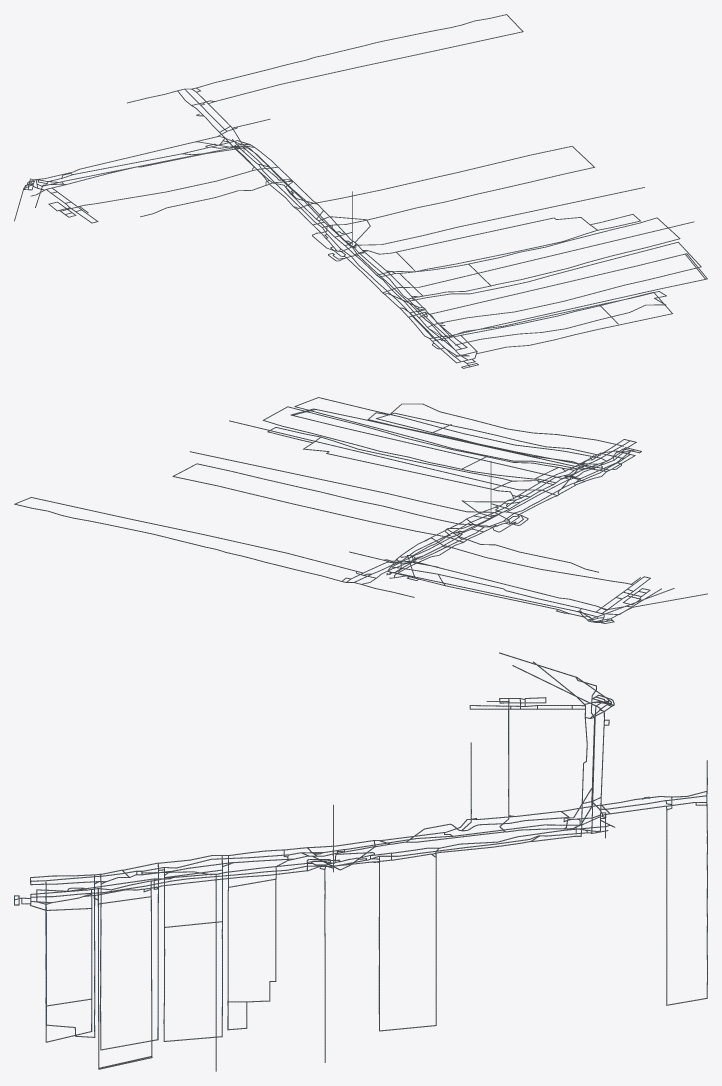
File: SXNGMY.glb
3 views of the same model, one above another, from view 1: azimuth 30°, elevation 25°; view 2: azimuth 150°, elevation 25°; view 3: azimuth 270°, elevation 25° (orthographic). The views are drawn at different scales.
Visible parts, largest first — view 1: ms142, ms179, ms60, ms291, ms186; view 2: ms142, ms179, ms60, ms291, ms186, ms285, ms283, ms271, ms262, ms269; view 3: ms142, ms179, ms60.
Part boxes in pixels (x1,y1,x2,y2): ms142: [196, 14, 523, 101]; ms179: [415, 241, 701, 324]; ms60: [310, 146, 594, 225]; ms291: [430, 291, 666, 345]; ms186: [469, 217, 680, 285]; ms142: [14, 497, 355, 581]; ms179: [294, 397, 599, 467]; ms60: [172, 463, 472, 537]; ms291: [367, 403, 623, 468]; ms186: [262, 406, 485, 469]; ms285: [229, 420, 556, 495]; ms283: [190, 451, 493, 512]; ms271: [316, 409, 584, 468]; ms262: [375, 412, 600, 455]; ms269: [293, 415, 562, 478]; ms142: [666, 806, 707, 1005]; ms179: [100, 871, 158, 1050]; ms60: [378, 857, 436, 1031].
Bounding box in the file's own units: 3344 × 493 × 2779.
529 materials, 529 textured.
